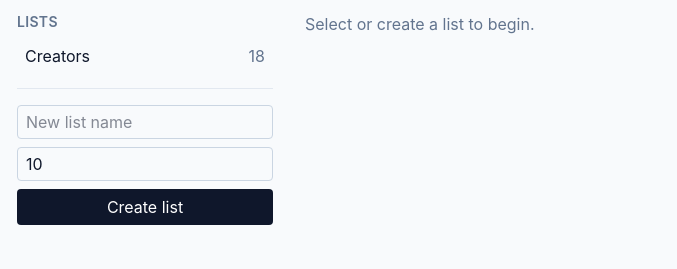
Scenario: WaitingListsView › hints how many are available to take
Click the button "Creators 18" at (145, 56), box [17, 40, 273, 72]
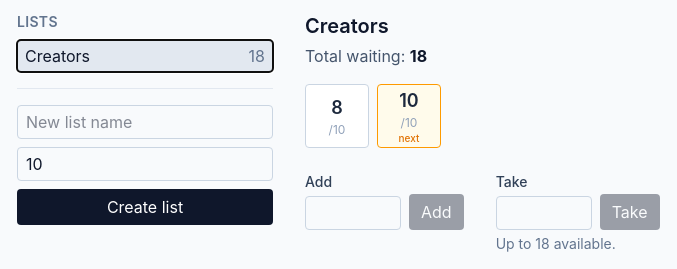
expect the text "Up to 18 available." is shown: met, box [496, 235, 616, 252]
Type "5" into the field labelled "Take" at (544, 213), box [496, 196, 592, 230]
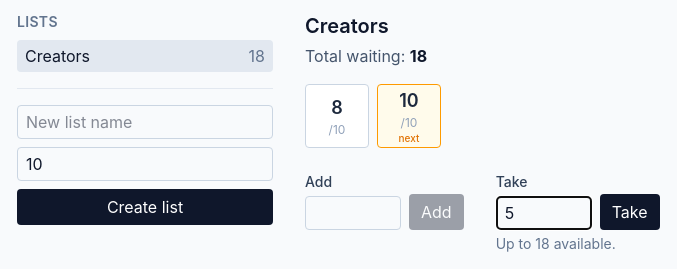
expect the button "Take" is enabled: met, box [600, 194, 660, 230]
